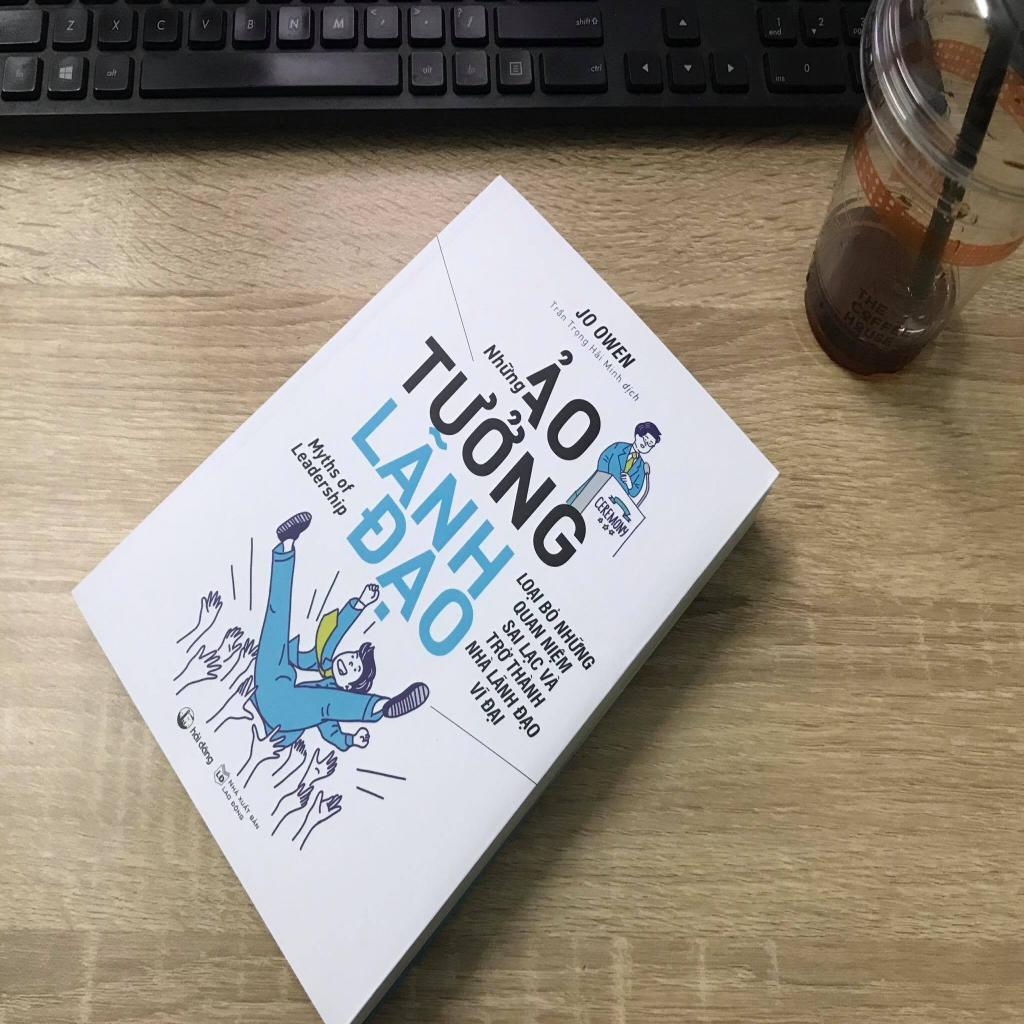text: (391, 318, 606, 576), (350, 385, 525, 602), (330, 488, 484, 680), (504, 340, 622, 472), (287, 441, 353, 520), (850, 299, 914, 345), (480, 340, 529, 397), (840, 309, 896, 355), (552, 616, 598, 672), (504, 657, 550, 709), (592, 323, 636, 370), (303, 437, 343, 482), (536, 634, 576, 678), (593, 493, 631, 539), (510, 600, 548, 642), (485, 666, 521, 709), (508, 703, 542, 743), (484, 627, 518, 665), (463, 635, 495, 675), (856, 284, 890, 318), (512, 572, 546, 606), (476, 695, 506, 731), (516, 641, 546, 675), (500, 616, 526, 648), (565, 317, 590, 349), (537, 596, 563, 626), (539, 664, 563, 694), (195, 737, 218, 768), (574, 303, 600, 329), (468, 676, 492, 704), (619, 380, 641, 408), (548, 298, 570, 324), (602, 358, 624, 384), (336, 473, 356, 498), (237, 792, 253, 816), (189, 723, 205, 746), (588, 342, 606, 362), (248, 811, 264, 831), (227, 778, 242, 798), (574, 14, 594, 28), (420, 64, 438, 78), (288, 17, 302, 34), (66, 17, 78, 35), (220, 784, 232, 802), (332, 17, 346, 32), (214, 768, 227, 784), (14, 66, 28, 80), (104, 67, 120, 79), (589, 63, 605, 75), (467, 15, 477, 34), (369, 5, 381, 20), (201, 17, 211, 34), (156, 20, 168, 34), (112, 20, 122, 35), (246, 18, 256, 32), (413, 4, 423, 18), (852, 26, 864, 37), (769, 28, 783, 37), (467, 64, 477, 75), (775, 74, 786, 84), (380, 17, 388, 30), (457, 7, 465, 20), (775, 17, 783, 29), (818, 16, 826, 28), (860, 15, 866, 28), (804, 61, 810, 74), (422, 20, 430, 28)
